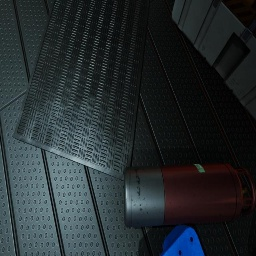NitrogenTank ,: (124, 162, 256, 228)
